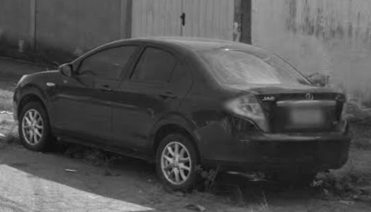car: (12, 36, 351, 192)
